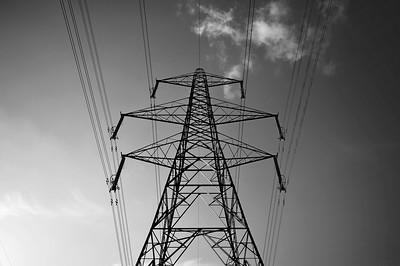power_tower: (96, 64, 290, 266)
